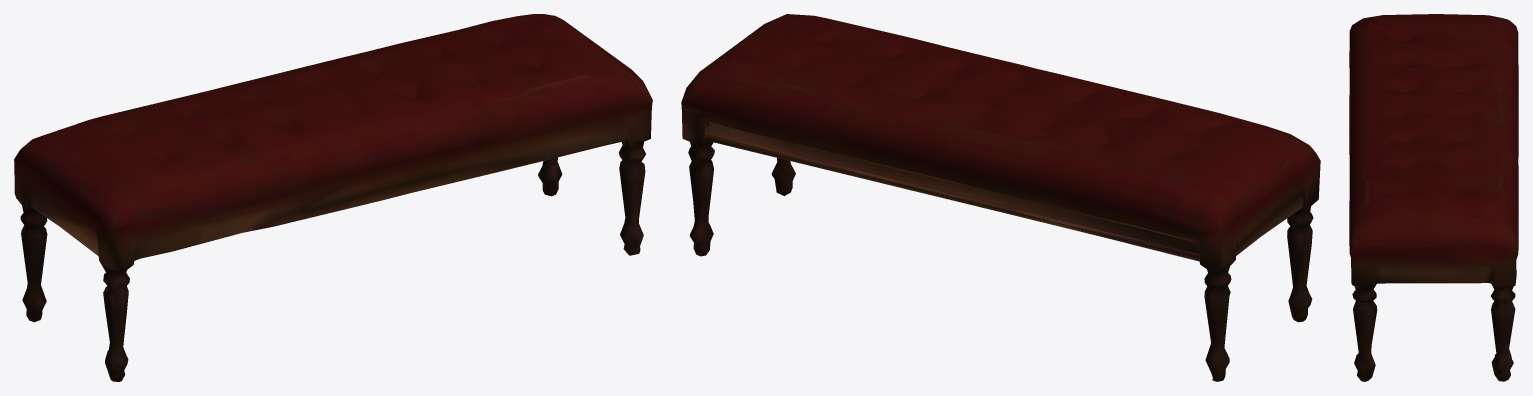
The model's file is banco_tapizado.movil.glb.
The picture shows the model from 3 angles, left to right: view 1: azimuth 30°, elevation 25°; view 2: azimuth 150°, elevation 25°; view 3: azimuth 270°, elevation 25°; orthographic projection. The views are drawn at different scales.
Visible parts, largest first — view 1: geometry_0; view 2: geometry_0; view 3: geometry_0.
Part boxes in pixels (bbox=[...]): geometry_0: bbox=[14, 14, 652, 381]; geometry_0: bbox=[681, 14, 1320, 381]; geometry_0: bbox=[1349, 14, 1518, 381].
Bounding box in the file's own units: 1.4 × 0.4782 × 0.4489.
Materials: 1 (1 with a texture image).
